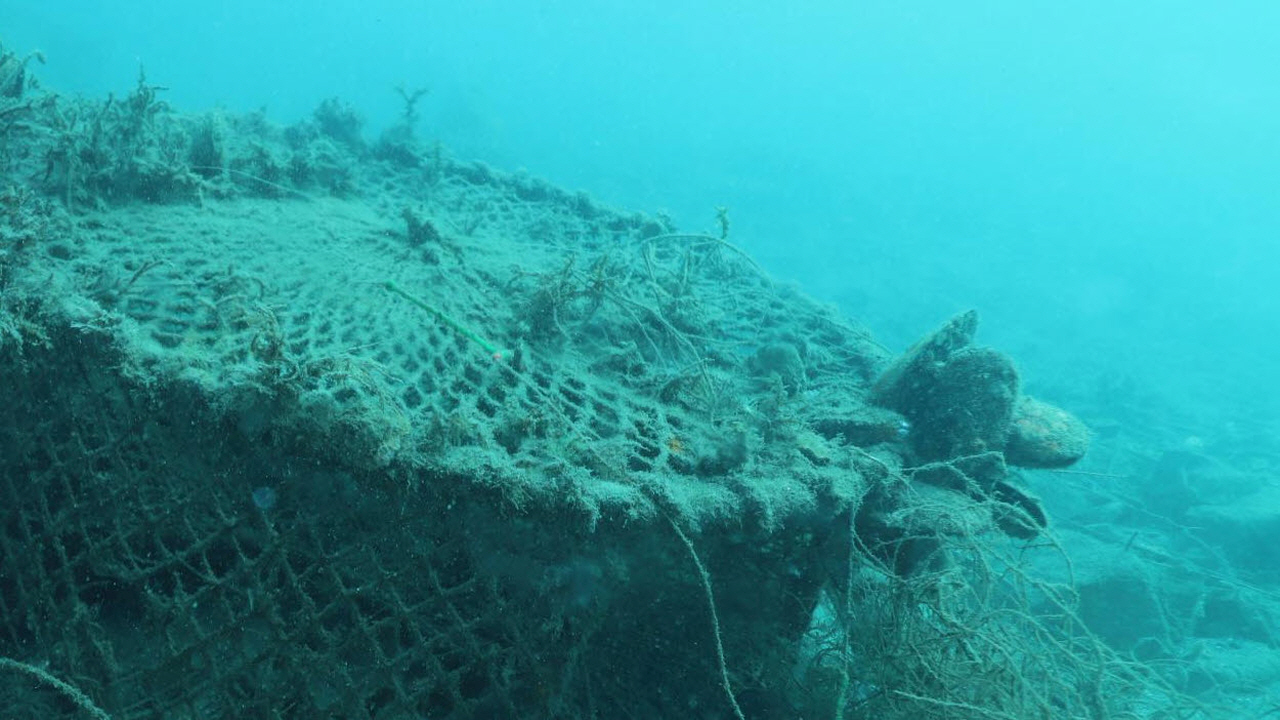circular fish trap: (0, 113, 900, 720)
